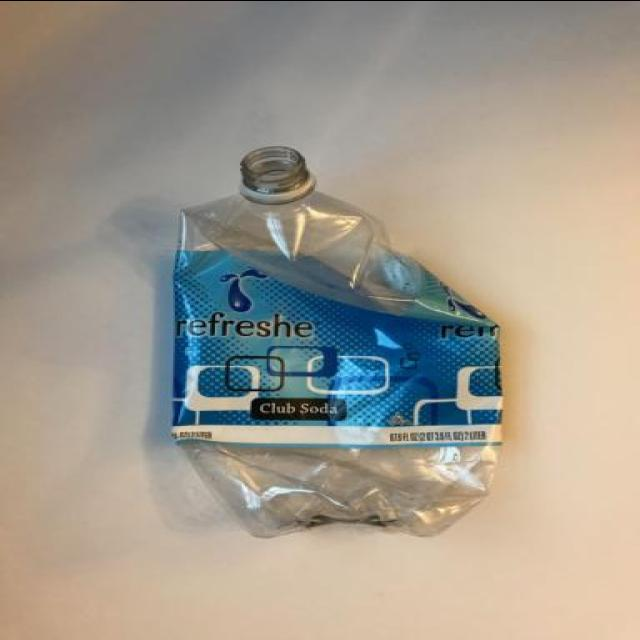litter: (170, 143, 505, 538)
